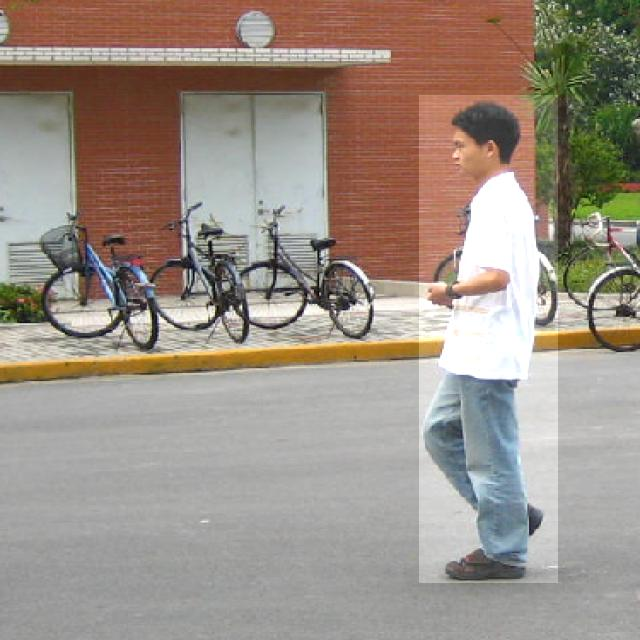with scooter: (419, 95, 558, 583)
